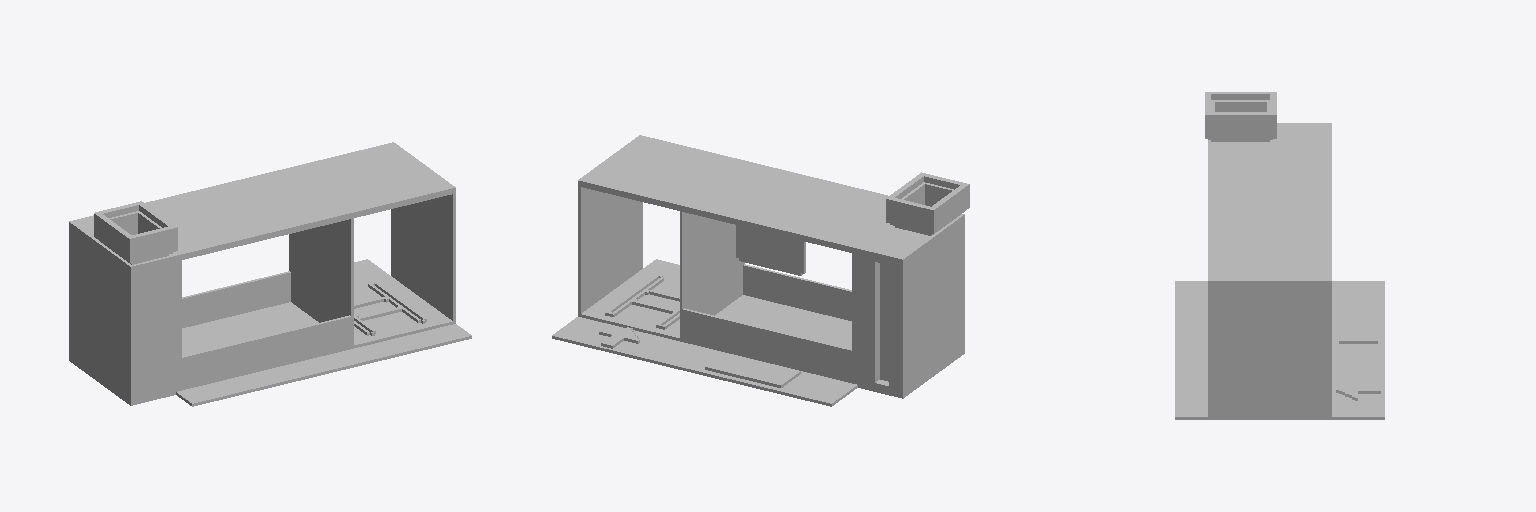
The model's file is CarConcessionaire.obj.
3 renders of one model, left to right at view 1: azimuth 30°, elevation 25°; view 2: azimuth 150°, elevation 25°; view 3: azimuth 270°, elevation 25°, orthographic.
Visible parts, largest first — view 1: object 1; view 2: object 1; view 3: object 1.
Boxes of the visible parts, box(x1,y1,x2,y2) form: object 1: box(69, 142, 471, 406); object 1: box(552, 135, 969, 406); object 1: box(1175, 92, 1384, 419).
Size of the model in its own units: 11.6 by 5.7 by 6.4.